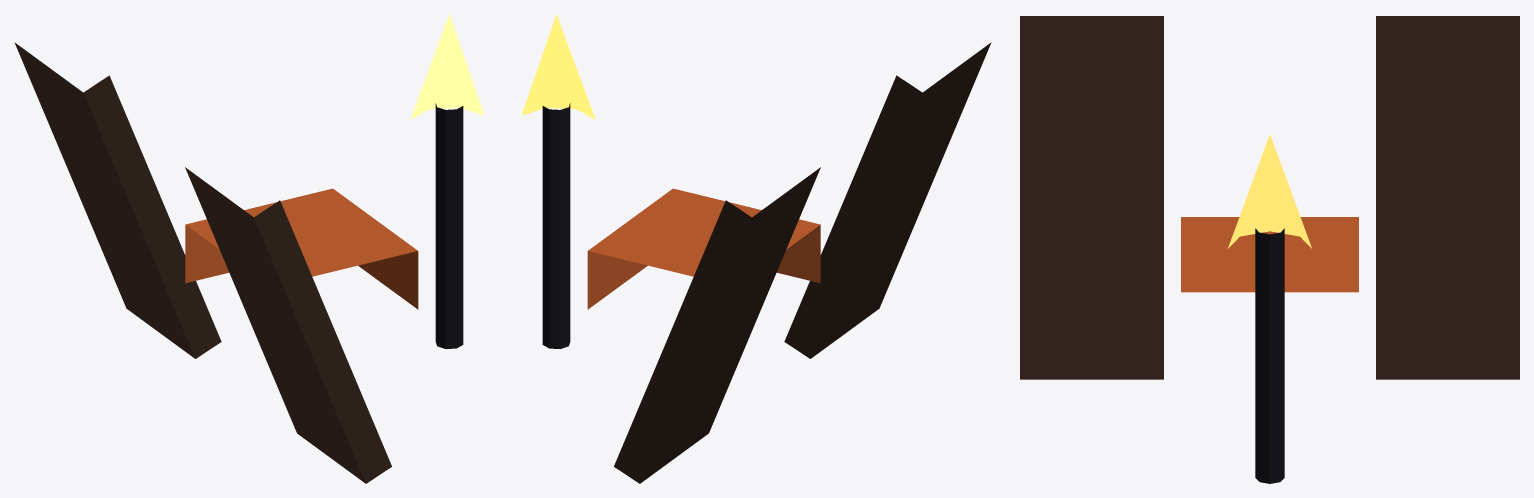
File: batrider.glb
3 views of the same model, side by side, from view 1: azimuth 30°, elevation 25°; view 2: azimuth 150°, elevation 25°; view 3: azimuth 270°, elevation 25° (orthographic). The views are drawn at different scales.
Visible parts, largest first — view 1: batrider-wing-l, batrider-wing-r, batrider-saddle, batrider-torch, batrider-torch-flame; view 2: batrider-wing-r, batrider-wing-l, batrider-saddle, batrider-torch, batrider-torch-flame; view 3: batrider-wing-l, batrider-wing-r, batrider-saddle, batrider-torch, batrider-torch-flame.
Boxes of the visible parts, left/top/right/bottom form: batrider-wing-l: left=185, top=167, right=391, bottom=483; batrider-wing-r: left=14, top=42, right=221, bottom=358; batrider-saddle: left=185, top=188, right=418, bottom=309; batrider-torch: left=435, top=103, right=463, bottom=348; batrider-torch-flame: left=410, top=14, right=484, bottom=119; batrider-wing-r: left=614, top=167, right=820, bottom=483; batrider-wing-l: left=784, top=42, right=991, bottom=358; batrider-saddle: left=587, top=188, right=820, bottom=309; batrider-torch: left=542, top=103, right=570, bottom=348; batrider-torch-flame: left=521, top=14, right=595, bottom=119; batrider-wing-l: left=1020, top=16, right=1163, bottom=379; batrider-wing-r: left=1376, top=16, right=1519, bottom=379; batrider-saddle: left=1181, top=217, right=1358, bottom=292; batrider-torch: left=1255, top=228, right=1284, bottom=483; batrider-torch-flame: left=1228, top=134, right=1311, bottom=248.
Size of the model in its own units: 0.9966 by 0.9042 by 1.18.
